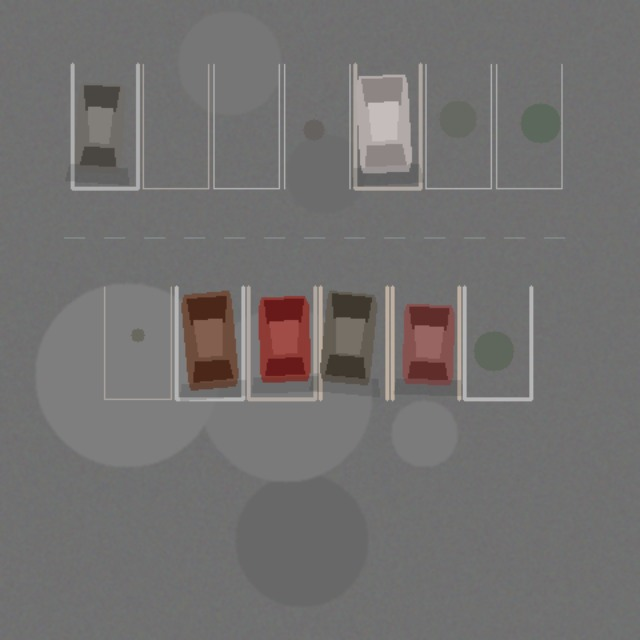space-empty: (213, 64, 279, 188), (425, 64, 491, 188), (143, 64, 208, 188), (284, 64, 349, 188), (496, 64, 561, 188), (104, 287, 171, 399), (464, 287, 531, 399)
space-occupied: (72, 64, 137, 188), (355, 64, 420, 188), (176, 287, 243, 399), (248, 287, 315, 399), (320, 287, 387, 399), (392, 287, 459, 399)
